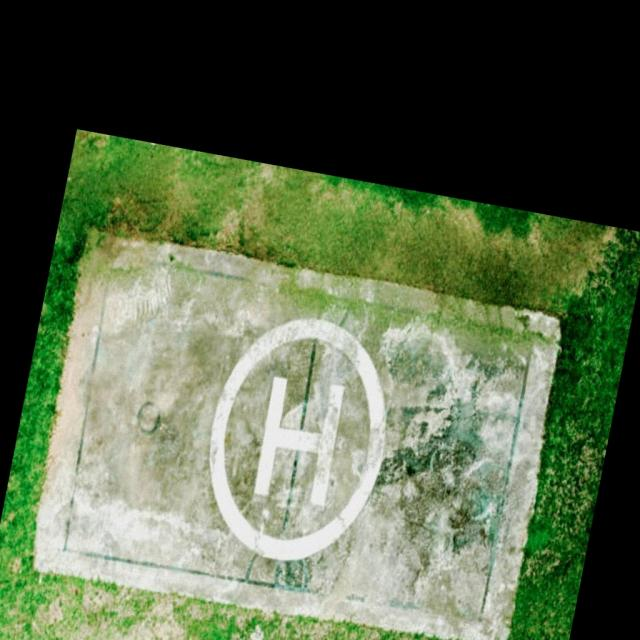helipad: (204, 312, 390, 567)
